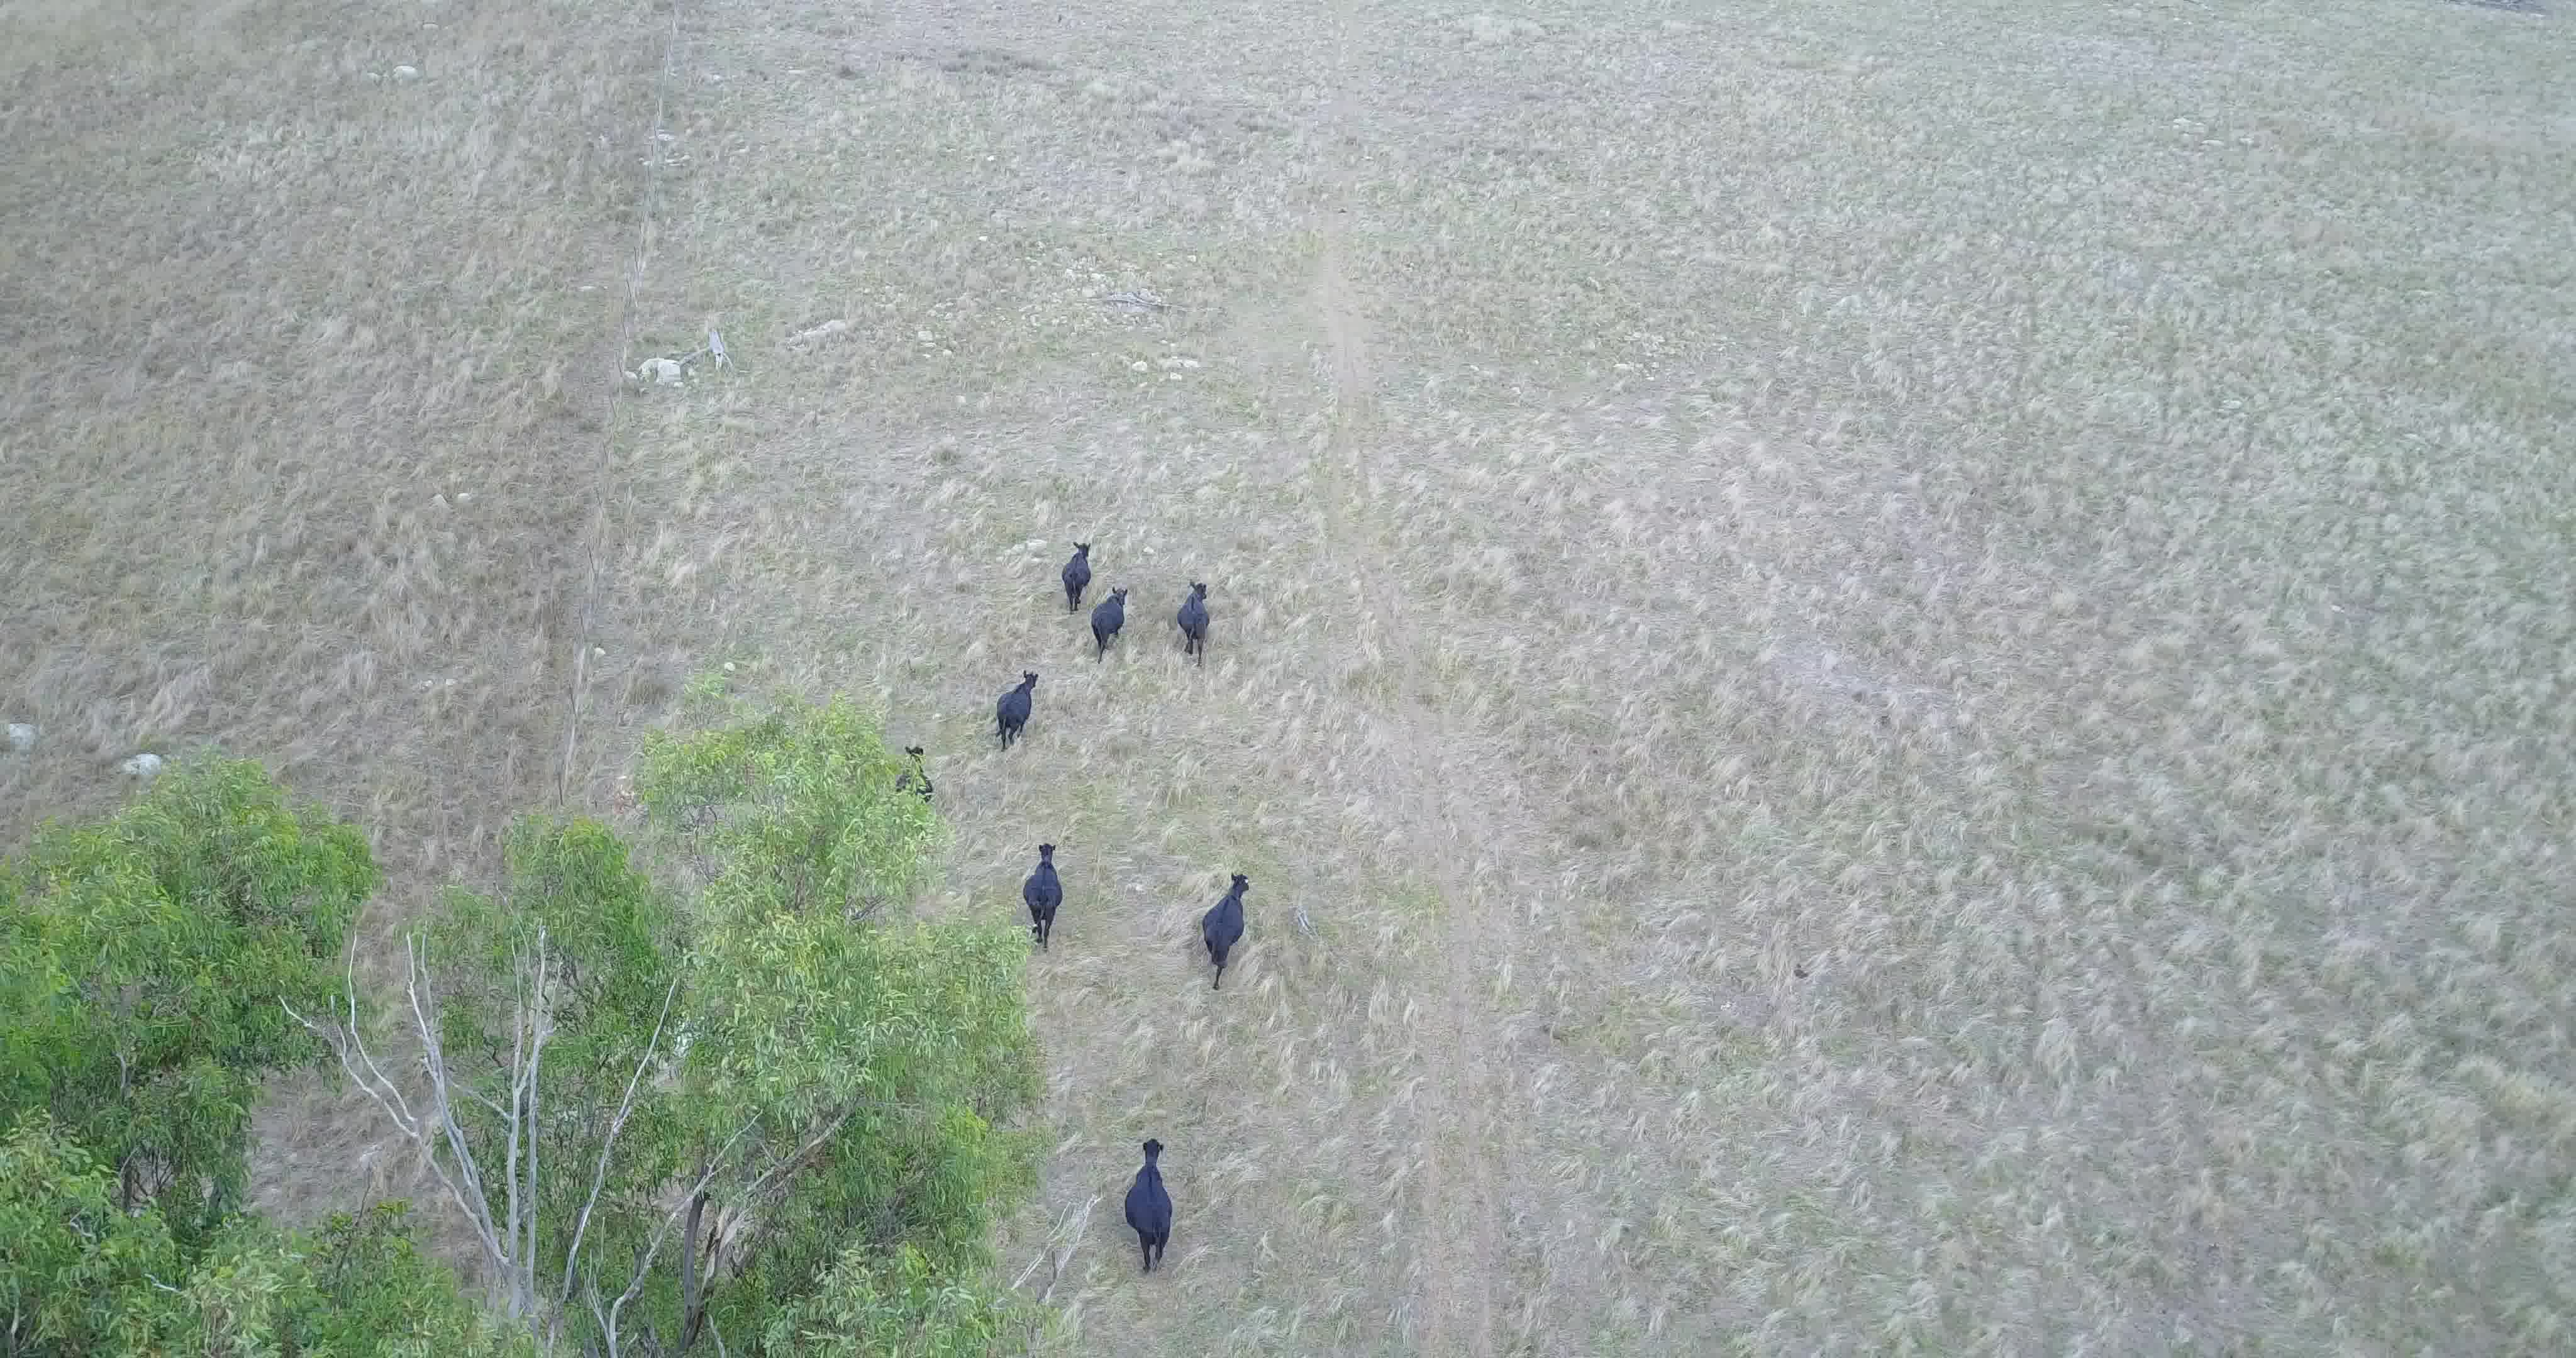cattle: (1121, 1135, 1179, 1278), (1198, 871, 1254, 998), (1017, 835, 1073, 958), (993, 666, 1041, 748), (1174, 576, 1213, 671), (1087, 584, 1128, 663), (893, 741, 934, 818), (1060, 535, 1094, 617)
